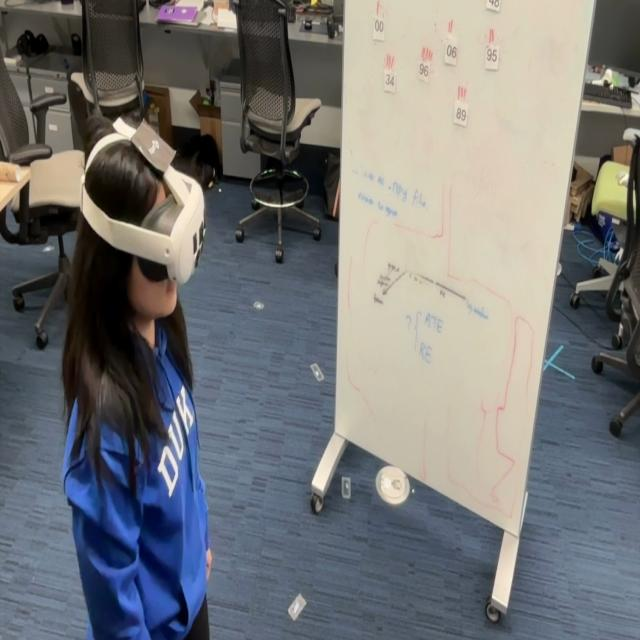Headset: (78, 120, 206, 286)
UnityLogo: (129, 114, 177, 176)
